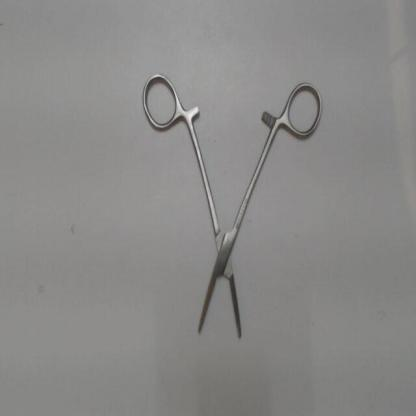Mayo Needle Holder: (136, 68, 326, 354)
